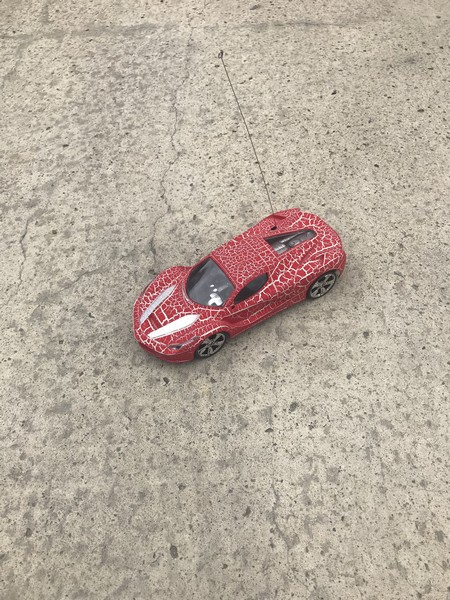RC: (130, 206, 349, 366)
